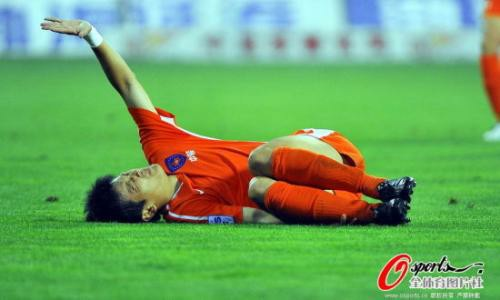fall: (70, 14, 422, 225)
